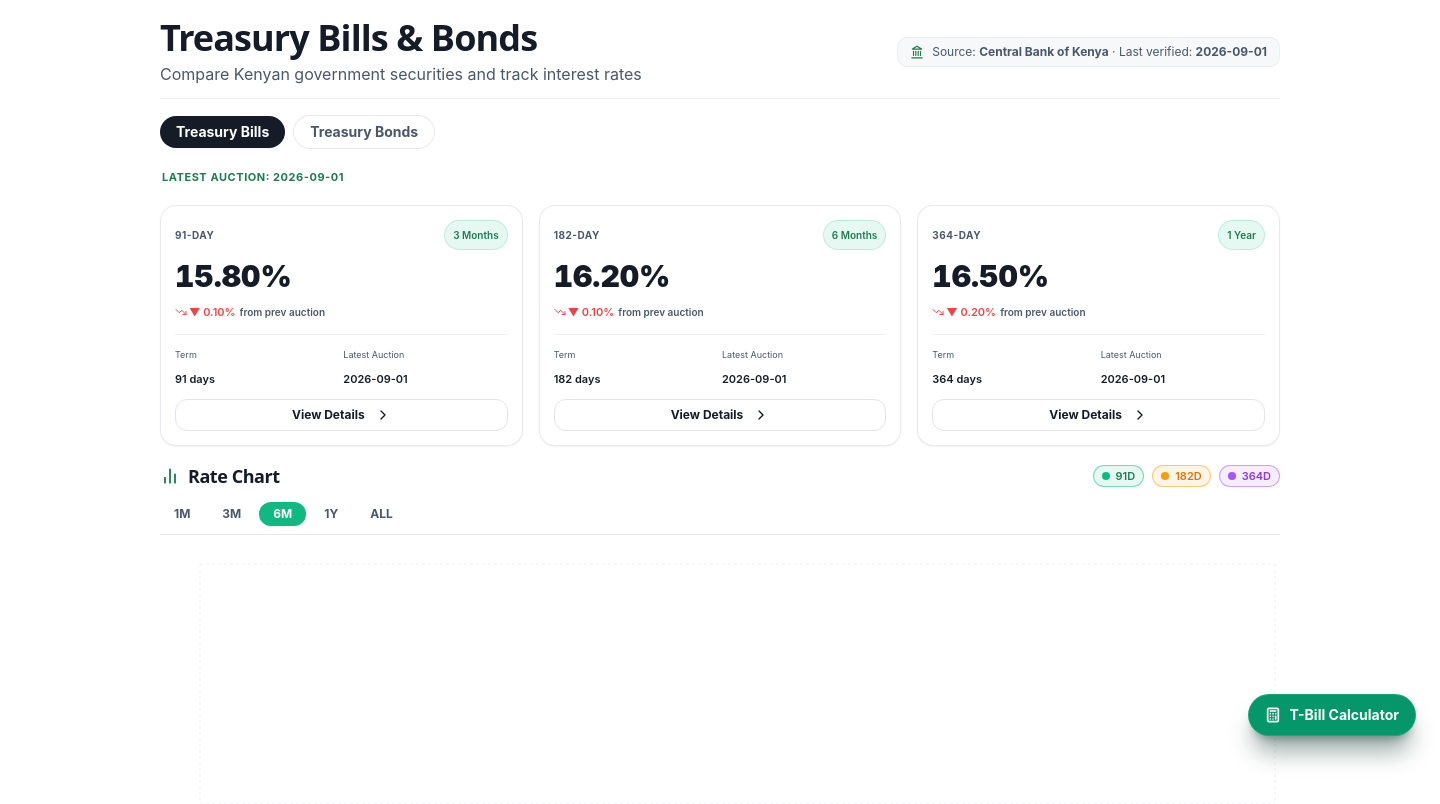
Scenario: TreasuryPage Rule of 3 Gating › gates anonymous visitors on Treasury Bills and Bonds with InlineDataGate
Note: Switch to Treasury Bonds tab
Click the button "Treasury Bonds": (364, 132) [293,115,435,149]
(page scrolled)
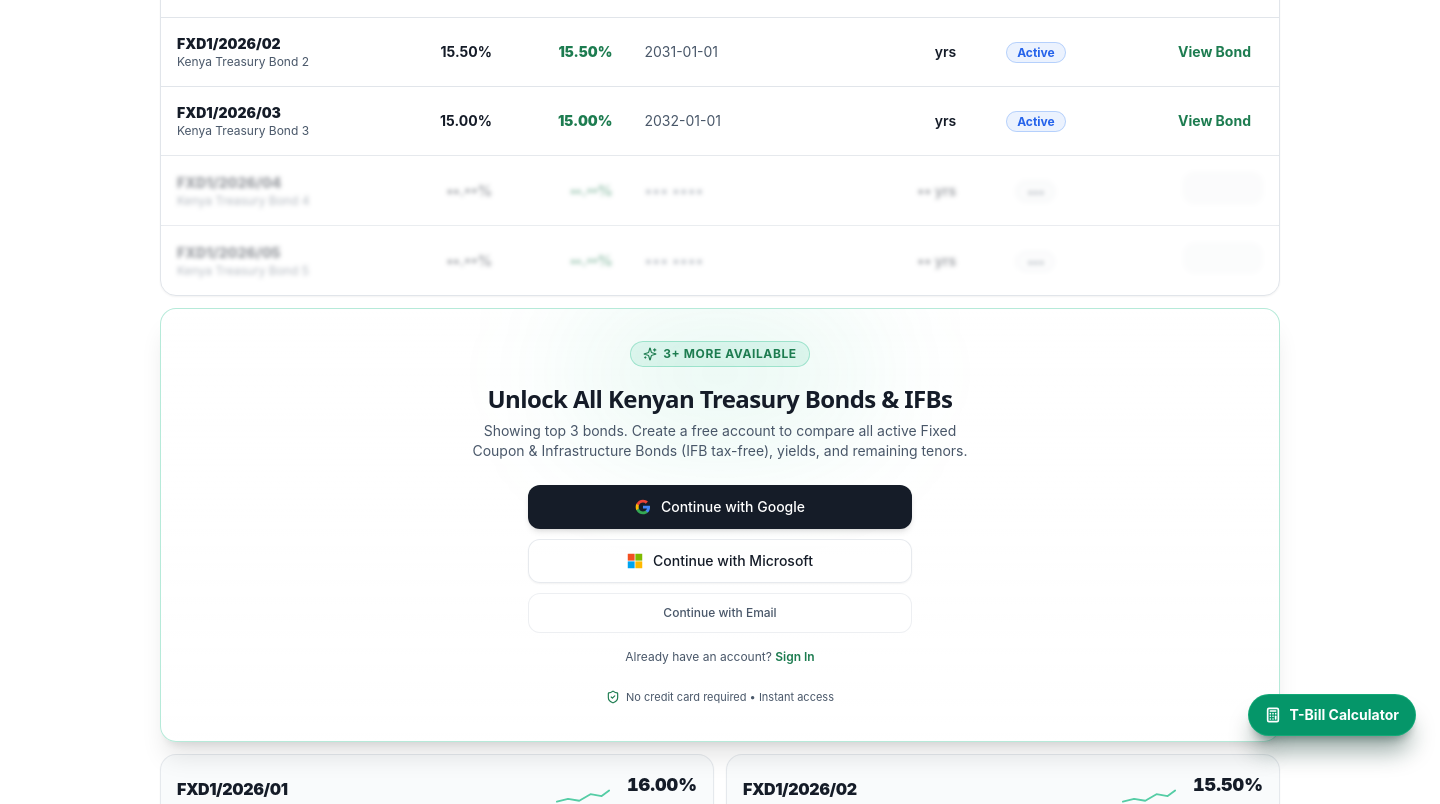
Now the text "FXD1/2026/02" in the row of "2031-01-01" is shown, box [177,35,281,52]
Now the text "FXD1/2026/03" is shown, box [177,104,281,121]
Now the text "FXD1/2026/04" is shown, box [177,174,282,190]
